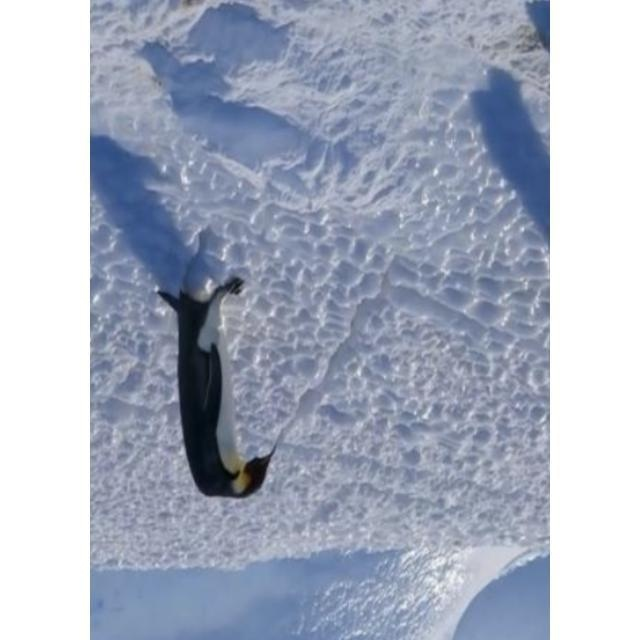penguin: (155, 273, 280, 500)
